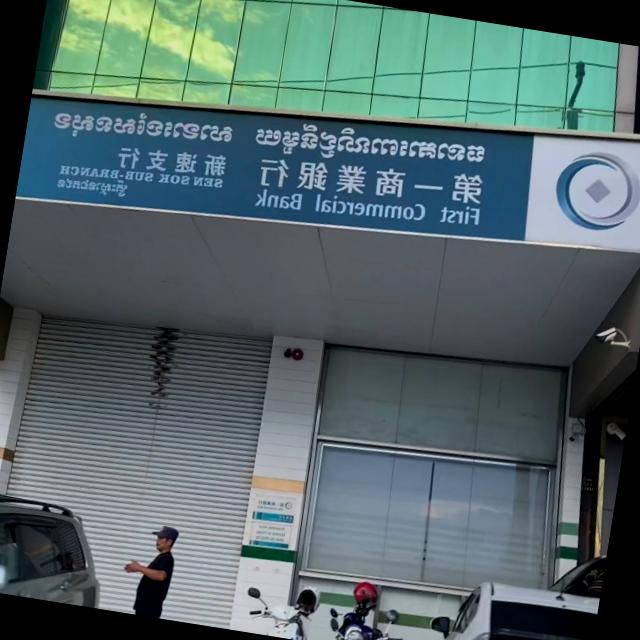1: (45, 101, 495, 168)
Yolov11kh: (44, 169, 136, 209)
